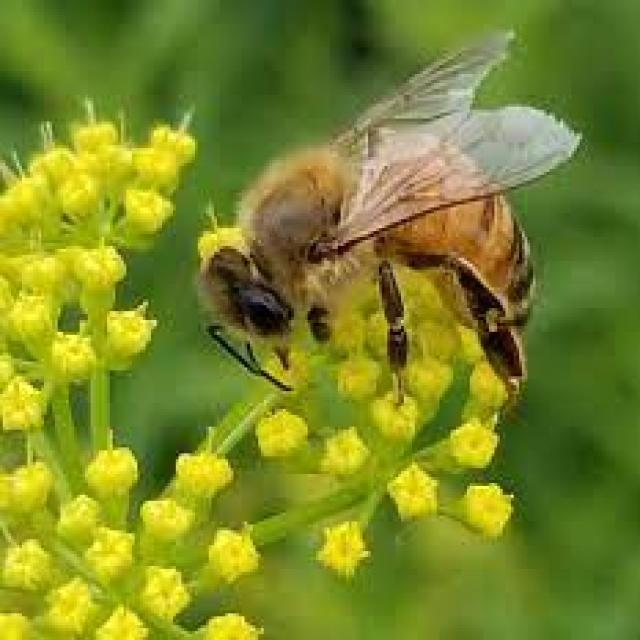Bees: (197, 29, 585, 427)
